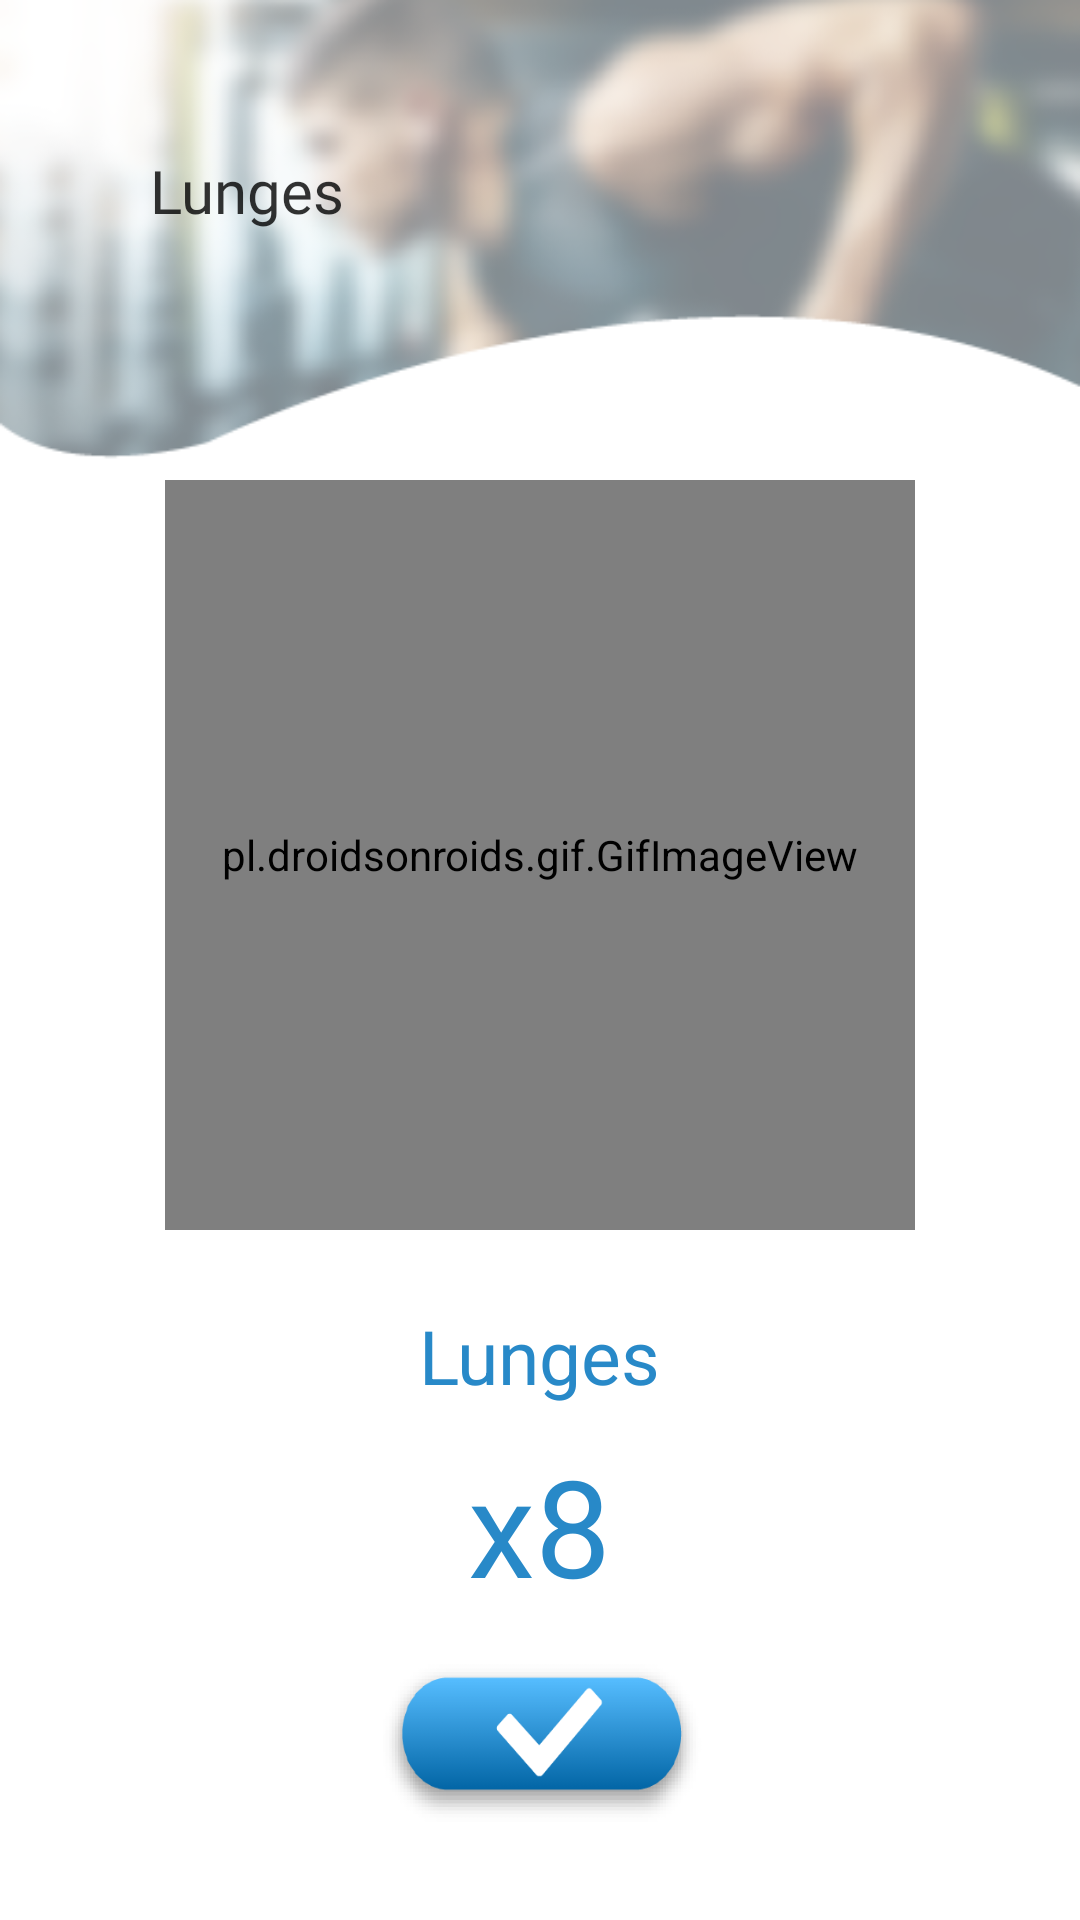

Where to tap for icons on this 1080px x 1920px app screen, as (x,y):
buttoncheck: (541,1742)
